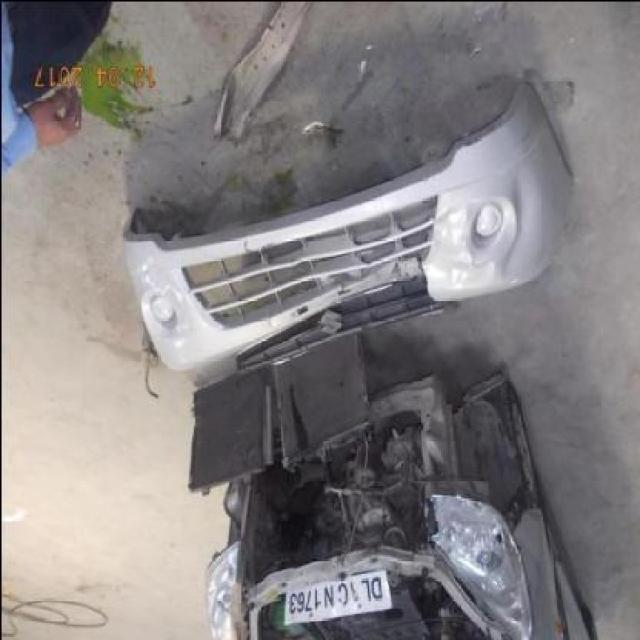damage: (194, 378, 544, 603)
